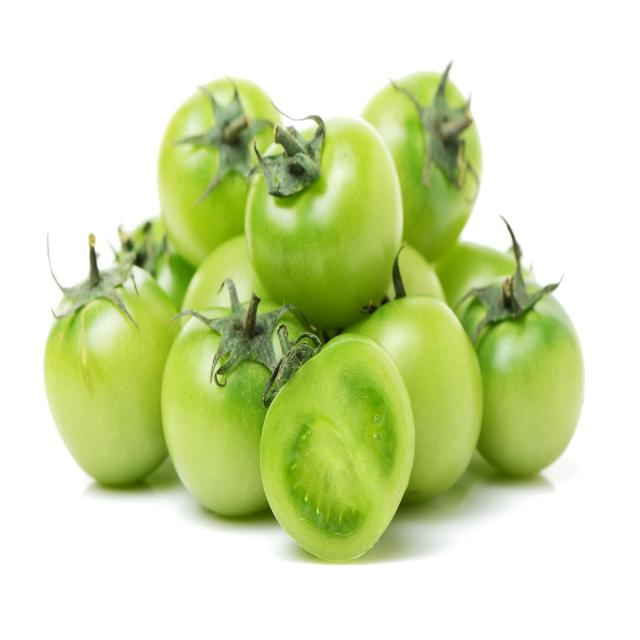unripe tomato: (32, 235, 196, 487), (240, 100, 406, 309), (469, 231, 595, 480)
